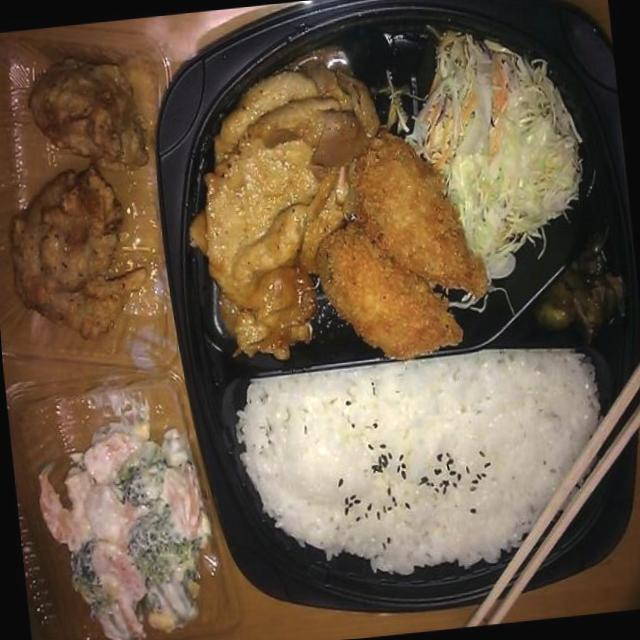Rice: (232, 341, 614, 594)
